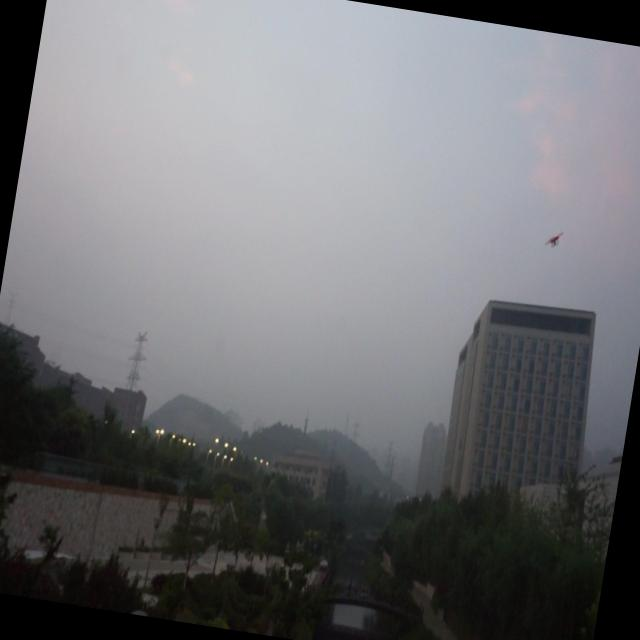drone: (542, 226, 566, 254)
